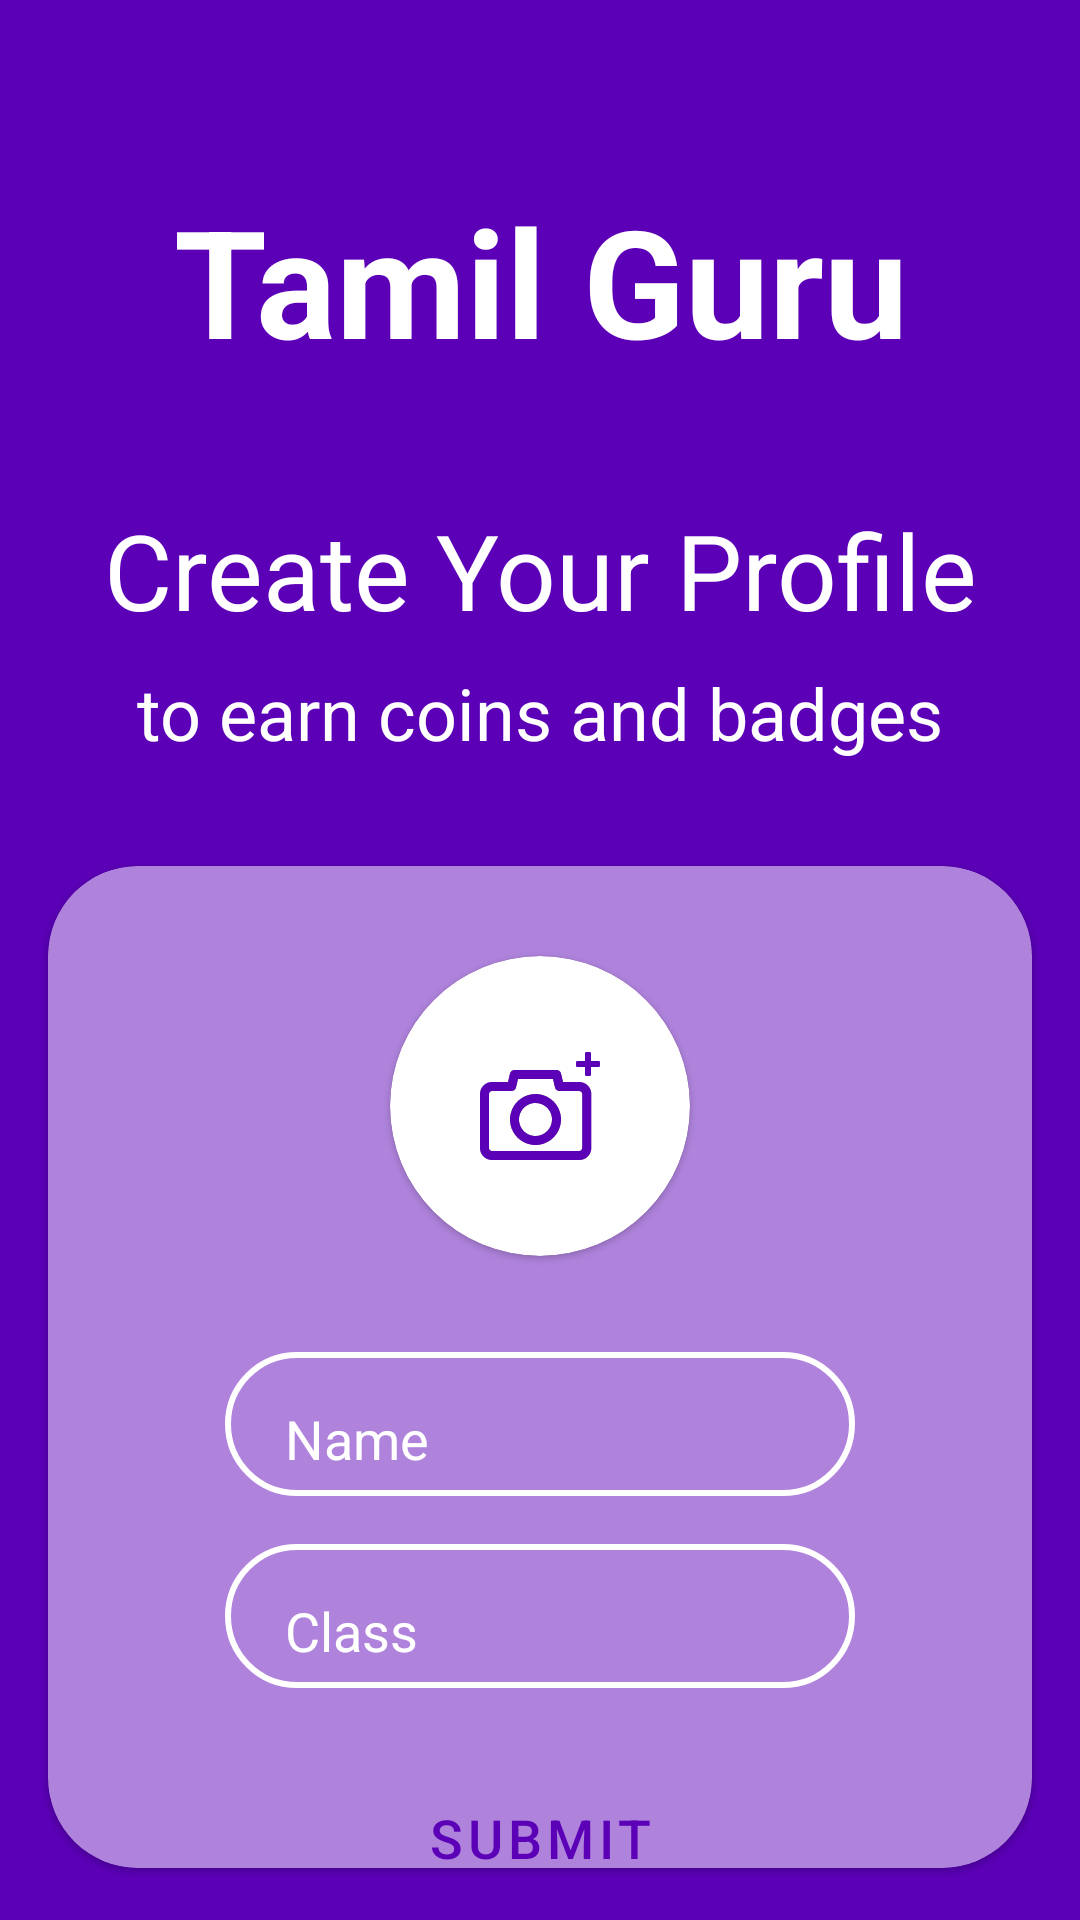

Screen size 1080 × 1920. Icon name, then its box in pixels as (x1, y1, x2, y2):
camera: (480, 1052, 600, 1160)
